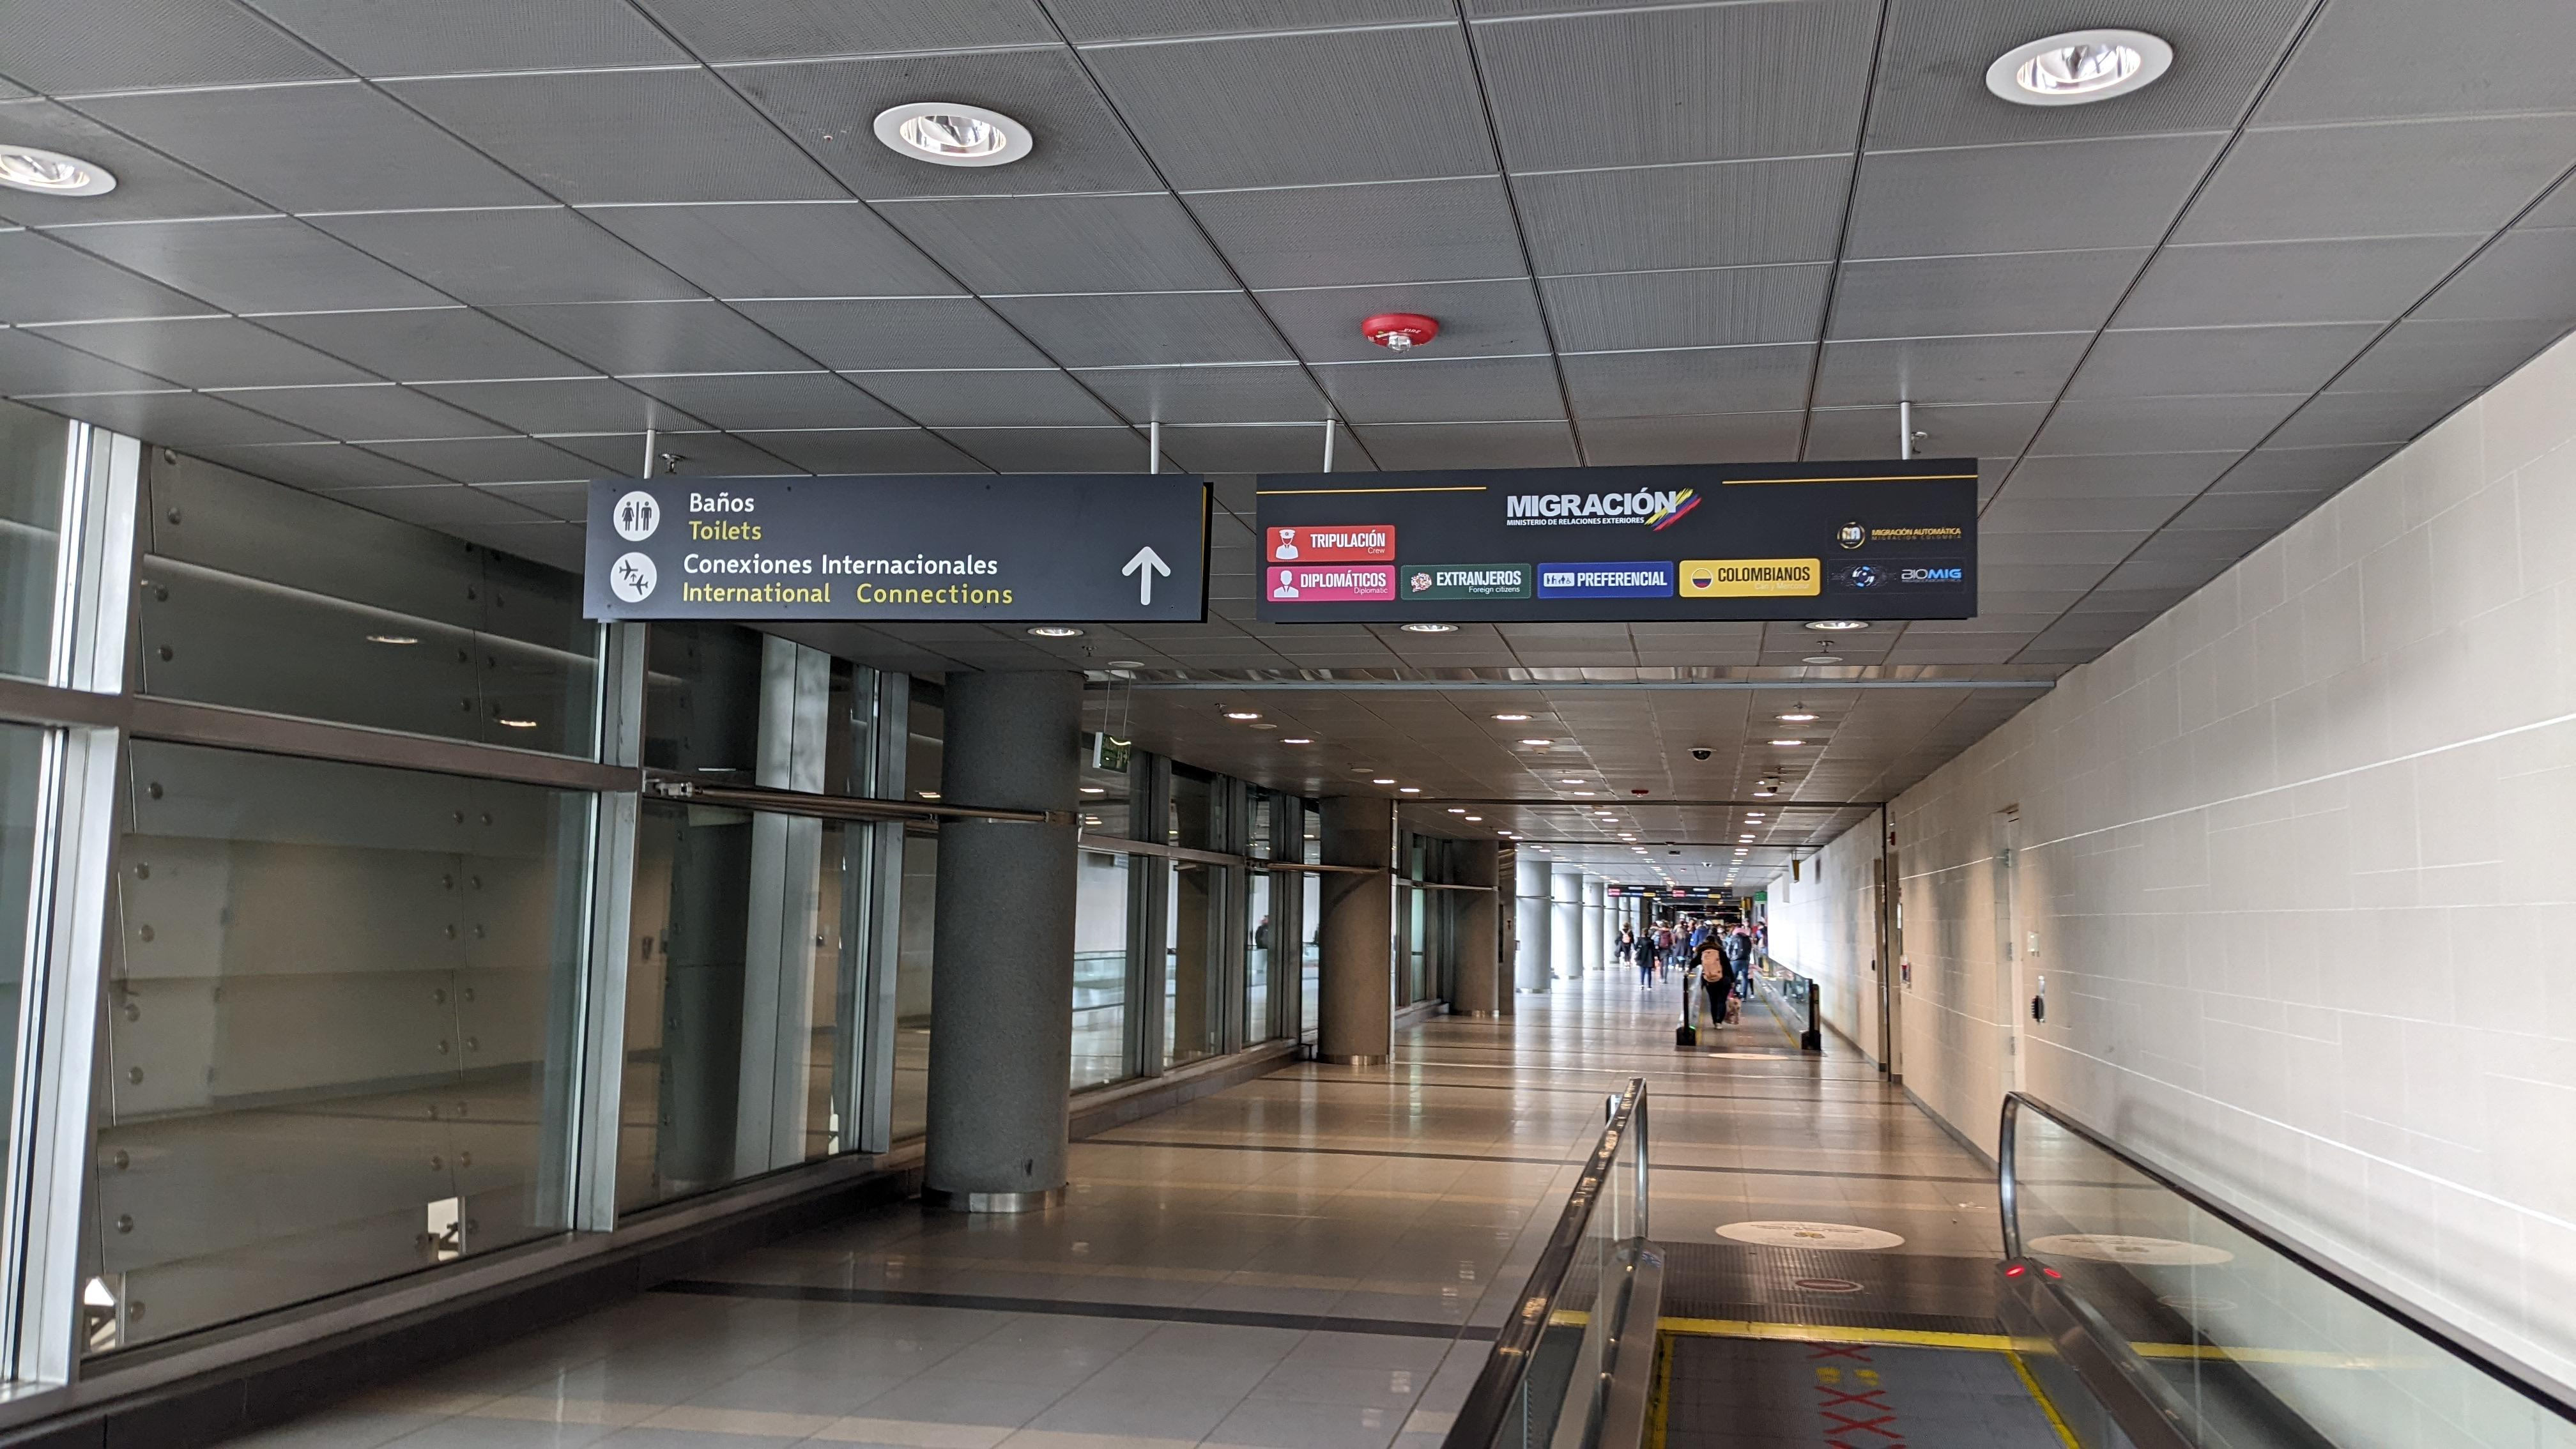bathrooms: (619, 499, 653, 533)
up arrow: (1118, 543, 1178, 610)
